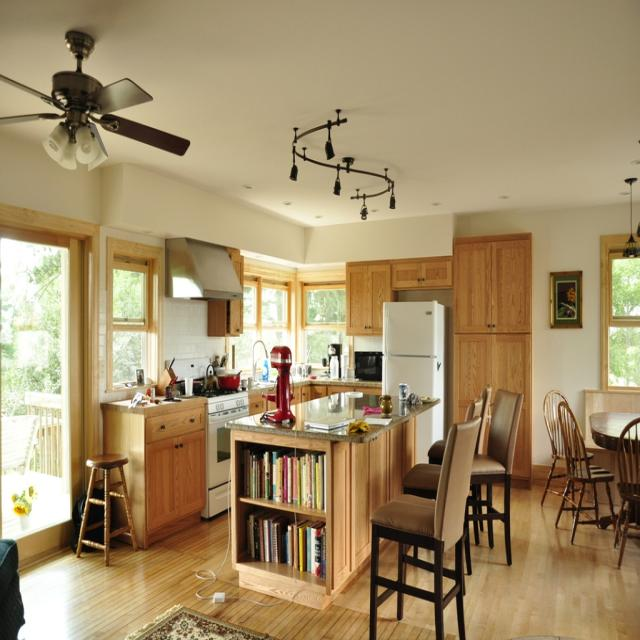Bulb: (0, 29, 192, 172)
